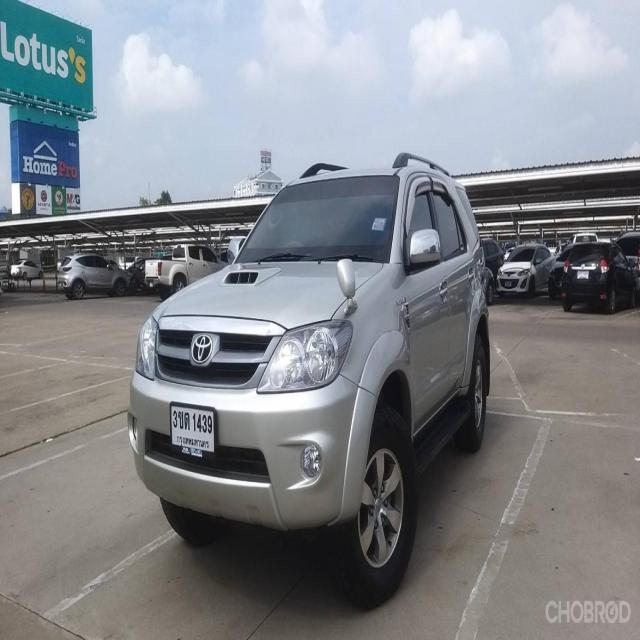license_plate: (170, 400, 218, 458)
